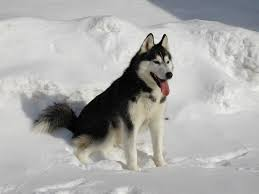Siberian Husky: (24, 14, 198, 172)
